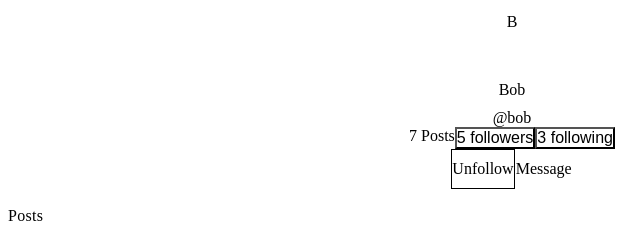
Test: UserRoute › unfollows and decrements the follower count
Click the button "Unfollow" at x=483, y=169, box x1=451 y1=149 x2=515 y2=189
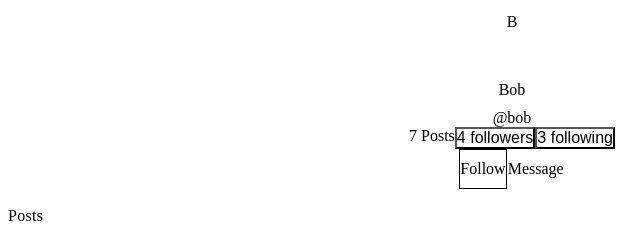
Expected: the text "4" is shown, x1=457 y1=129 x2=466 y2=146
